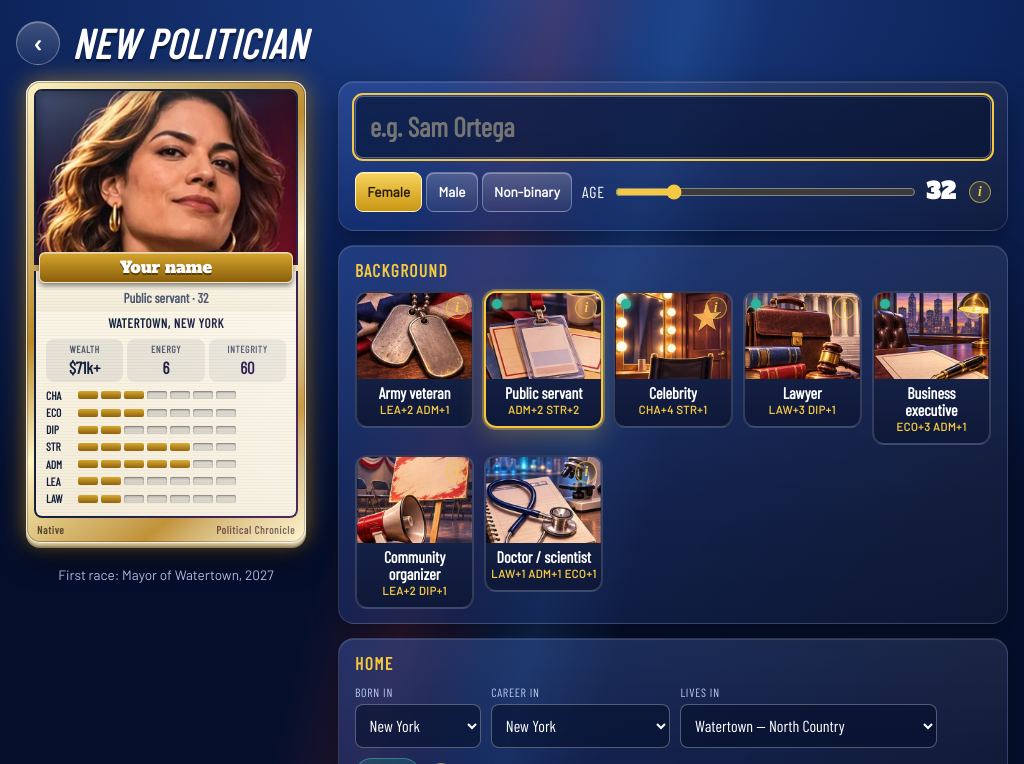
Test: <Creator> › clearing the skills shows the points left and disables submit
This screenshot has width=1024, height=764.
Type "A" into the field with placeholder "e.g. Sam Ortega" at (673, 127), box [355,96,991,158]
(page scrolled)
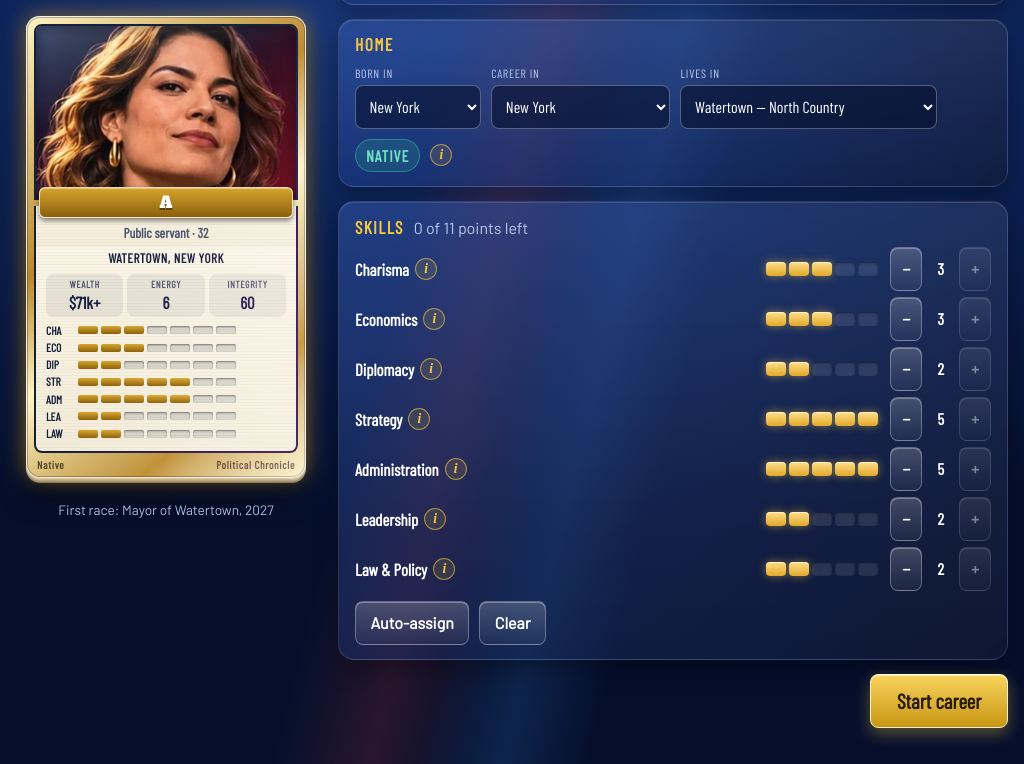
Click the button "Clear" at (513, 623), box [479,601,546,645]
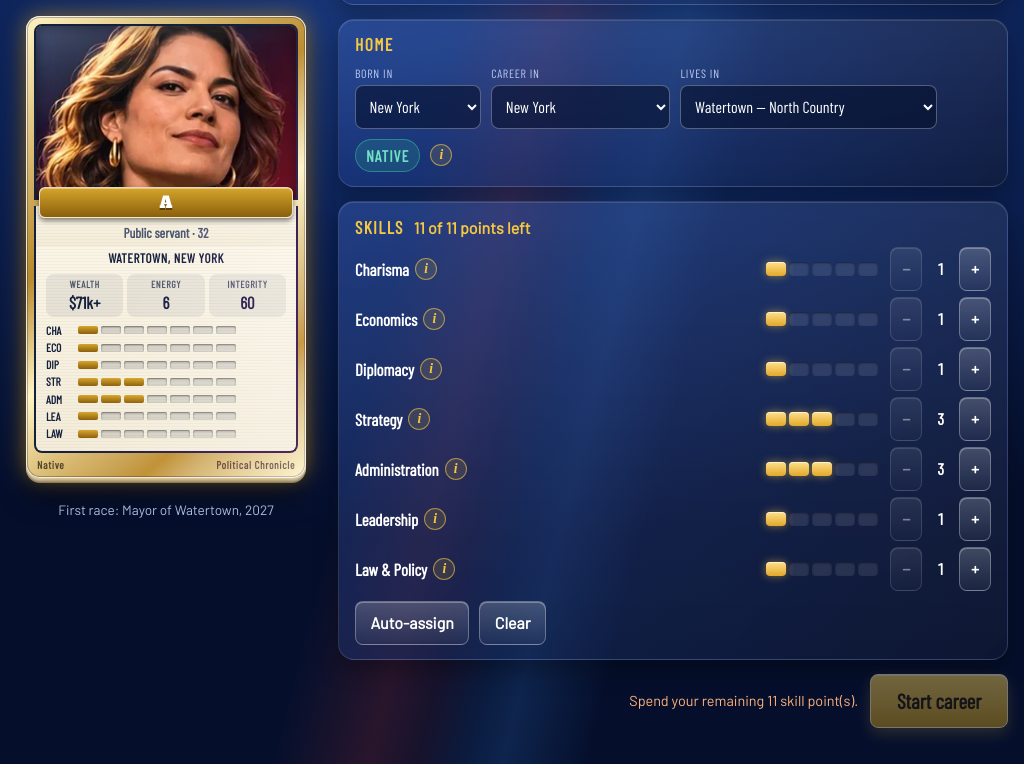
Now the text "11 of 11 points left" is shown, box [414,216,531,239]
Now the button "Start career" is disabled, box [870,674,1008,728]
Click the button named "Raise Charisma" at (975, 269), box [959,247,991,291]
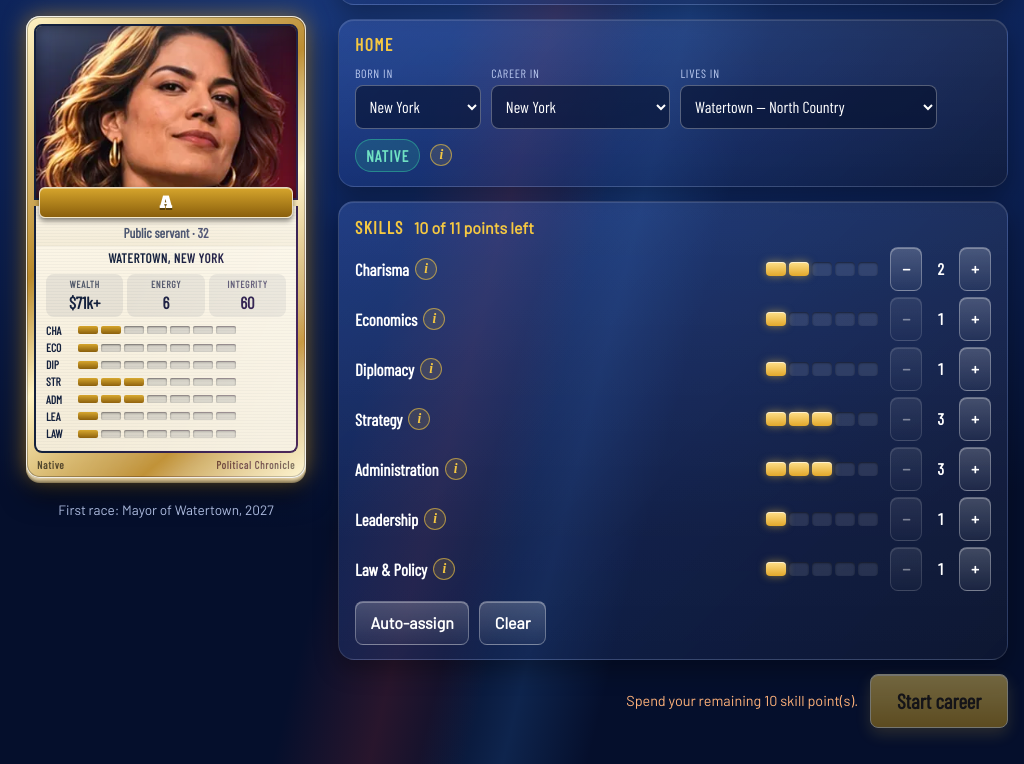
Now the text "10 of 11 points left" is shown, box [414,216,534,239]
